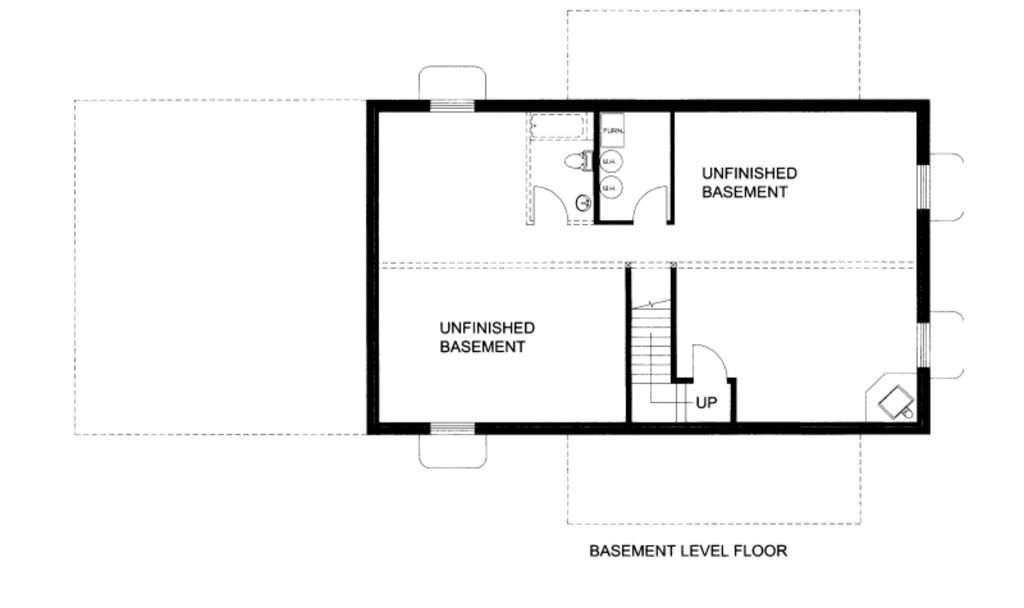door: (626, 180, 676, 228), (528, 182, 574, 231), (692, 342, 731, 384)
stairs: (626, 263, 695, 431)
tub: (526, 113, 591, 142)
window: (425, 415, 480, 436), (419, 96, 483, 114), (918, 160, 936, 211), (918, 320, 928, 370)
